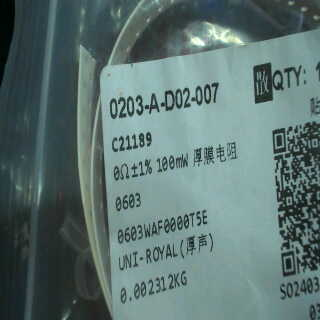0R: (110, 150, 190, 213)
